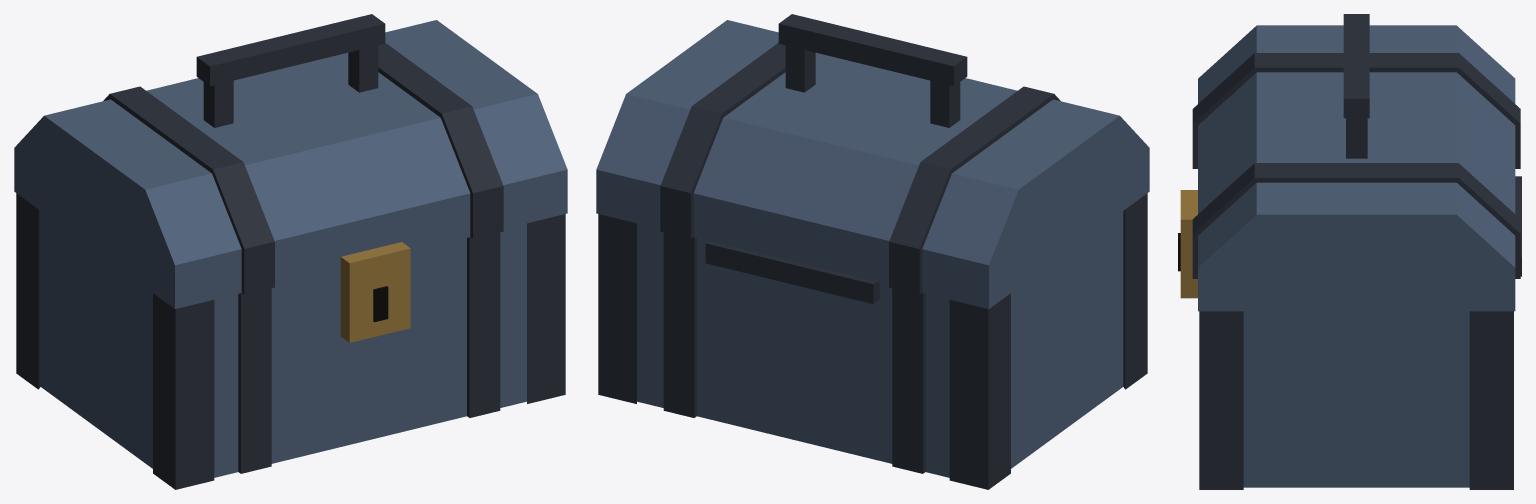
Rendered from chest_guard.glb.
3 renders of one model, left to right at view 1: azimuth 30°, elevation 25°; view 2: azimuth 150°, elevation 25°; view 3: azimuth 270°, elevation 25°, orthographic.
Visible parts, largest first — view 1: lid, base, lock; view 2: lid, base; view 3: lid, base, lock.
Part boxes in pixels (box(x1,y1,x2,y2)): lid: box(14, 14, 567, 308); base: box(16, 193, 565, 489); lock: box(340, 242, 410, 342); lid: box(596, 14, 1149, 308); base: box(598, 193, 1147, 489); lid: box(1192, 14, 1520, 311); base: box(1199, 176, 1521, 489); lock: box(1178, 190, 1197, 298).
Bounding box in the file's own units: 1.03 × 0.862 × 0.791.
